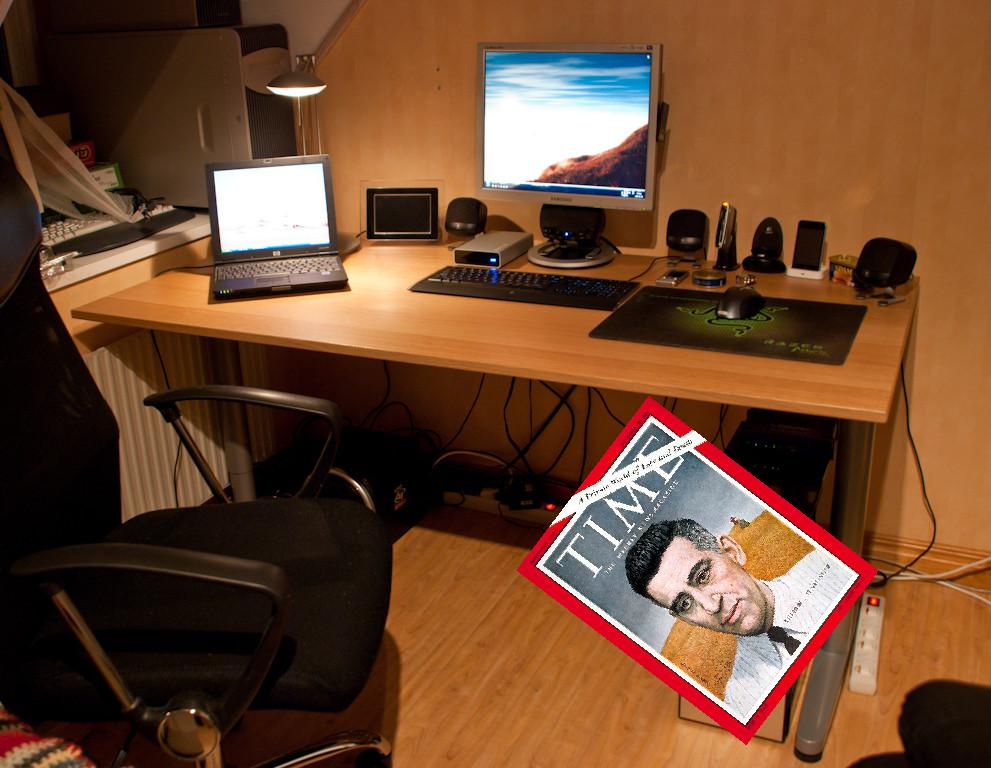times: (514, 396, 876, 745)
